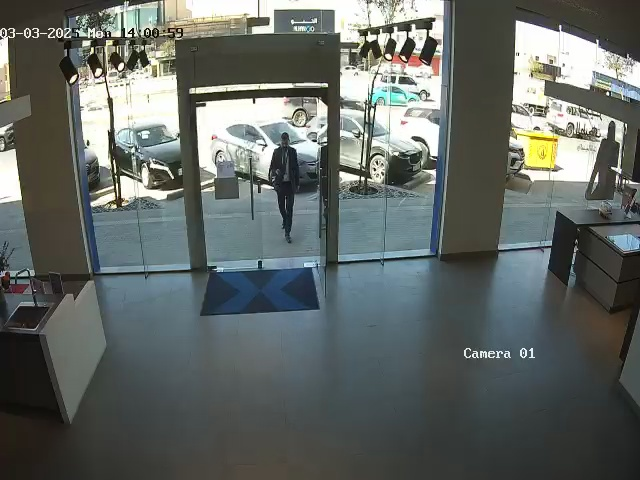employee: (268, 132, 300, 243)
